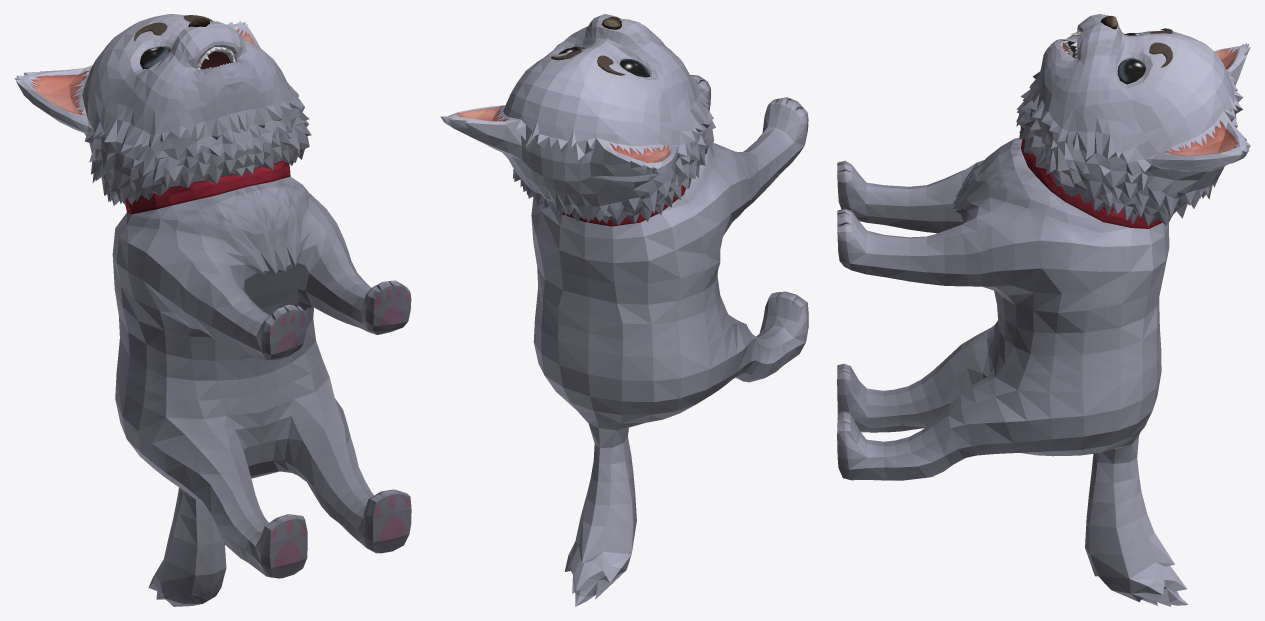
The model's file is sadaharu.glb.
3 renders of one model, left to right at view 1: azimuth 30°, elevation 25°; view 2: azimuth 150°, elevation 25°; view 3: azimuth 270°, elevation 25°, orthographic. The views are drawn at different scales.
Parts seen in each view (by area): view 1: Sadaharu.001; view 2: Sadaharu.001; view 3: Sadaharu.001.
Part boxes in pixels (box(x1,y1,x2,y2)): Sadaharu.001: box(14, 14, 411, 606); Sadaharu.001: box(440, 14, 808, 606); Sadaharu.001: box(837, 14, 1250, 606).
Size of the model in its own units: 1.44 by 3.61 by 2.3.
Materials: 1 (1 with a texture image).
